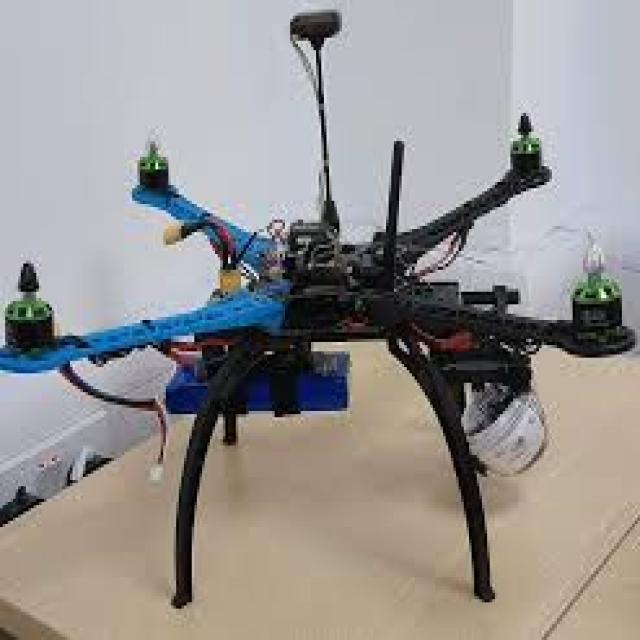drone: (13, 56, 640, 571)
